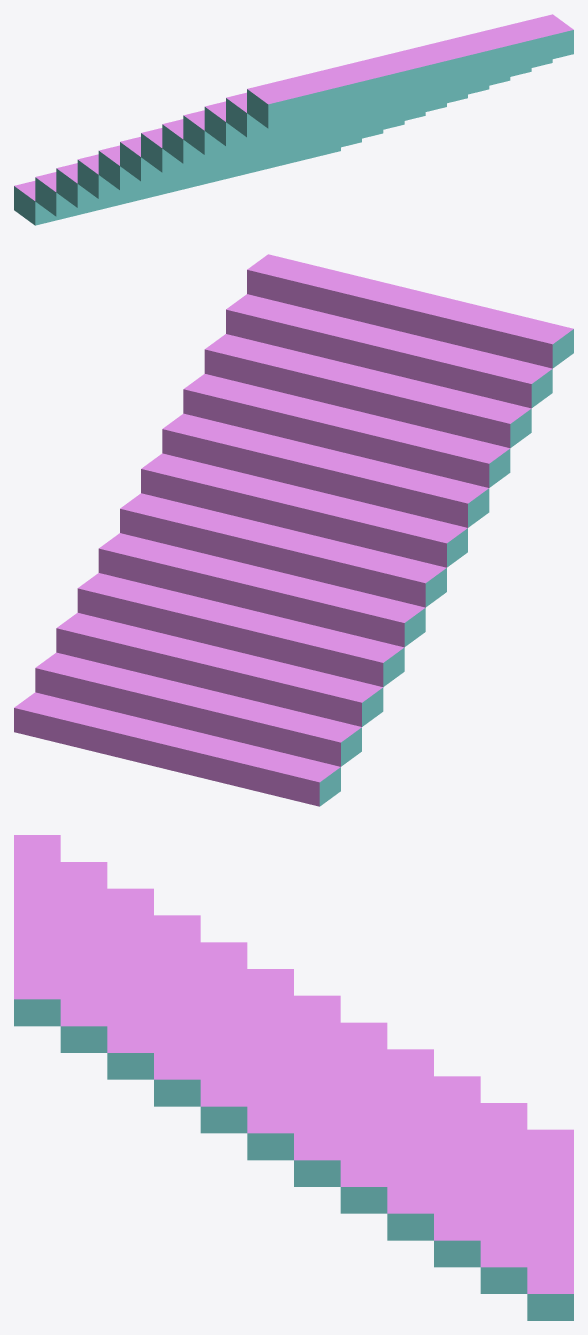
File: StairsMid.fbx
3 renders of one model, top to bottom at view 1: azimuth 30°, elevation 25°; view 2: azimuth 150°, elevation 25°; view 3: azimuth 270°, elevation 25°, orthographic. The views are drawn at different scales.
Visible parts, largest first — view 1: StairsMid; view 2: StairsMid; view 3: StairsMid.
Part boxes in pixels (x1,y1,x2,y2): StairsMid: [14, 14, 573, 225]; StairsMid: [14, 254, 573, 806]; StairsMid: [14, 835, 573, 1320].
Bounding box in the file's own units: 2.5 × 2.28 × 3.6.
